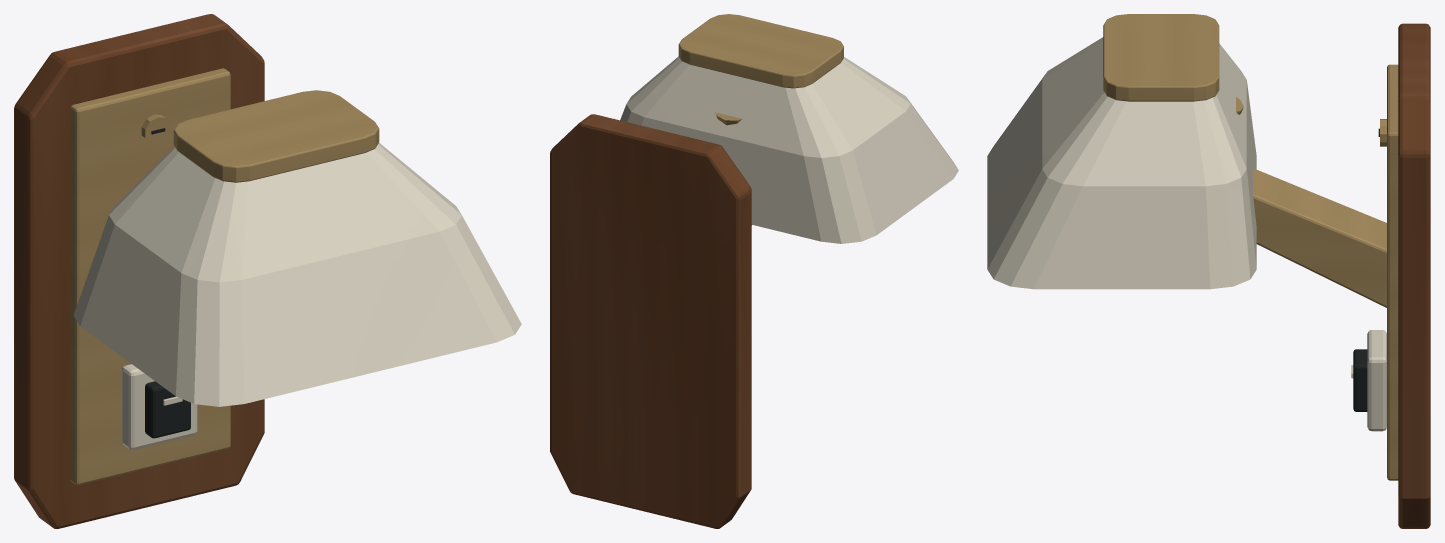
File: AST-GST-002.glb
3 renders of one model, left to right at view 1: azimuth 30°, elevation 25°; view 2: azimuth 150°, elevation 25°; view 3: azimuth 270°, elevation 25°, orthographic. The views are drawn at different scales.
Parts seen in each view (by area): view 1: AST-GST-002__ivory_enamel, AST-GST-002__warm_walnut, AST-GST-002__champagne_metal, AST-GST-002__dark_rubber; view 2: AST-GST-002__warm_walnut, AST-GST-002__ivory_enamel, AST-GST-002__champagne_metal; view 3: AST-GST-002__ivory_enamel, AST-GST-002__champagne_metal, AST-GST-002__warm_walnut, AST-GST-002__dark_rubber.
Boxes of the visible parts, box(x1,y1,x2,y2) form: AST-GST-002__ivory_enamel: box(73, 143, 521, 449); AST-GST-002__warm_walnut: box(14, 14, 264, 528); AST-GST-002__champagne_metal: box(70, 68, 379, 485); AST-GST-002__dark_rubber: box(145, 128, 190, 438); AST-GST-002__warm_walnut: box(550, 114, 751, 528); AST-GST-002__ivory_enamel: box(620, 56, 958, 243); AST-GST-002__champagne_metal: box(678, 14, 843, 225); AST-GST-002__ivory_enamel: box(987, 37, 1386, 431); AST-GST-002__champagne_metal: box(1103, 14, 1398, 480); AST-GST-002__warm_walnut: box(1398, 23, 1430, 528); AST-GST-002__dark_rubber: box(1353, 128, 1379, 411).
Bounding box in the file's own units: 0.258 × 0.345 × 0.316.
Materials: 5 (5 with a texture image).
